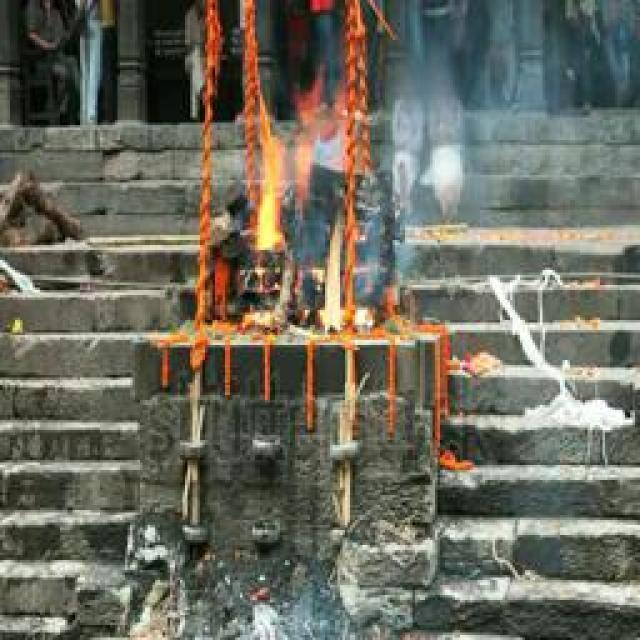Fire: (252, 80, 376, 332)
